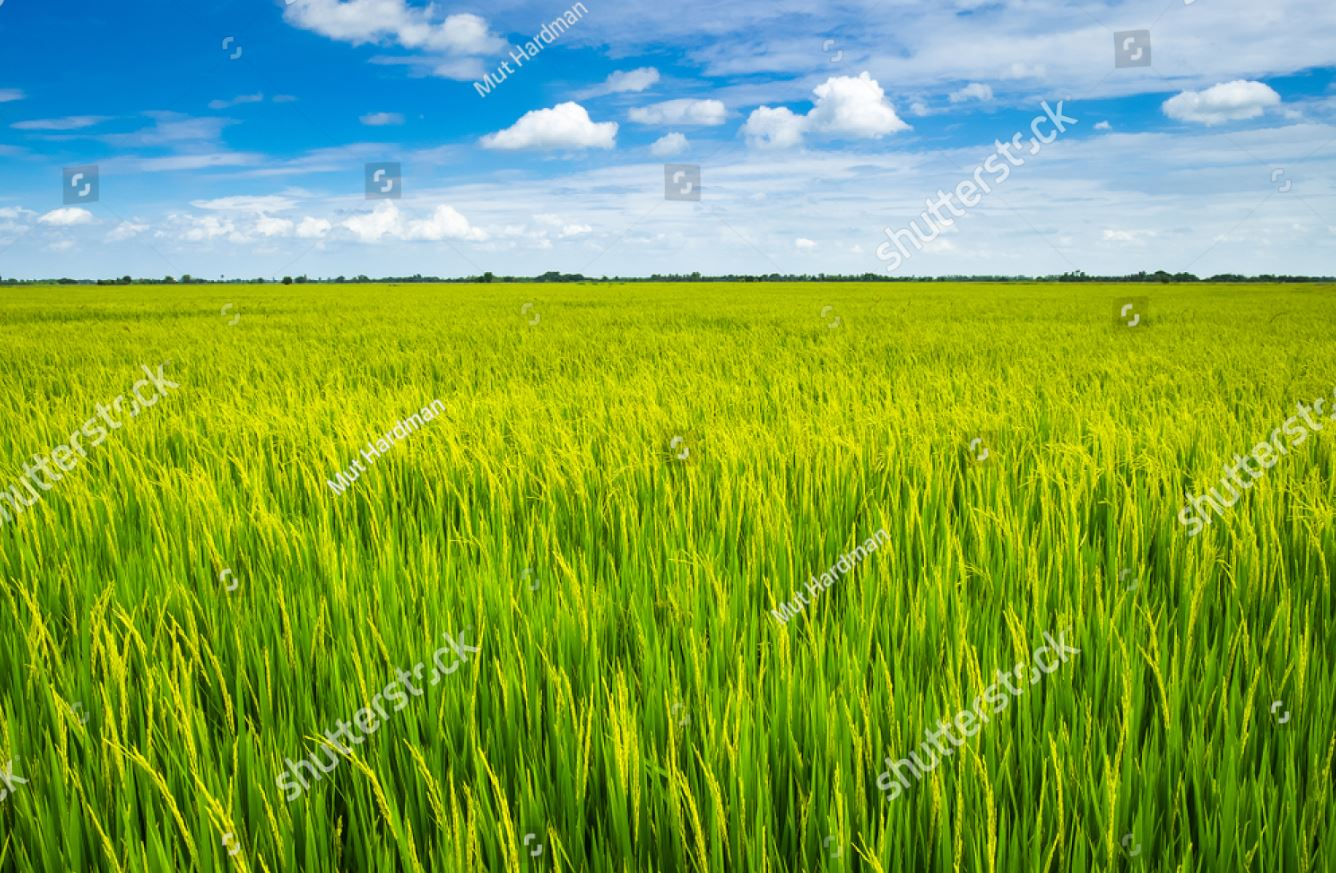Wheat: (169, 454, 1158, 778)
